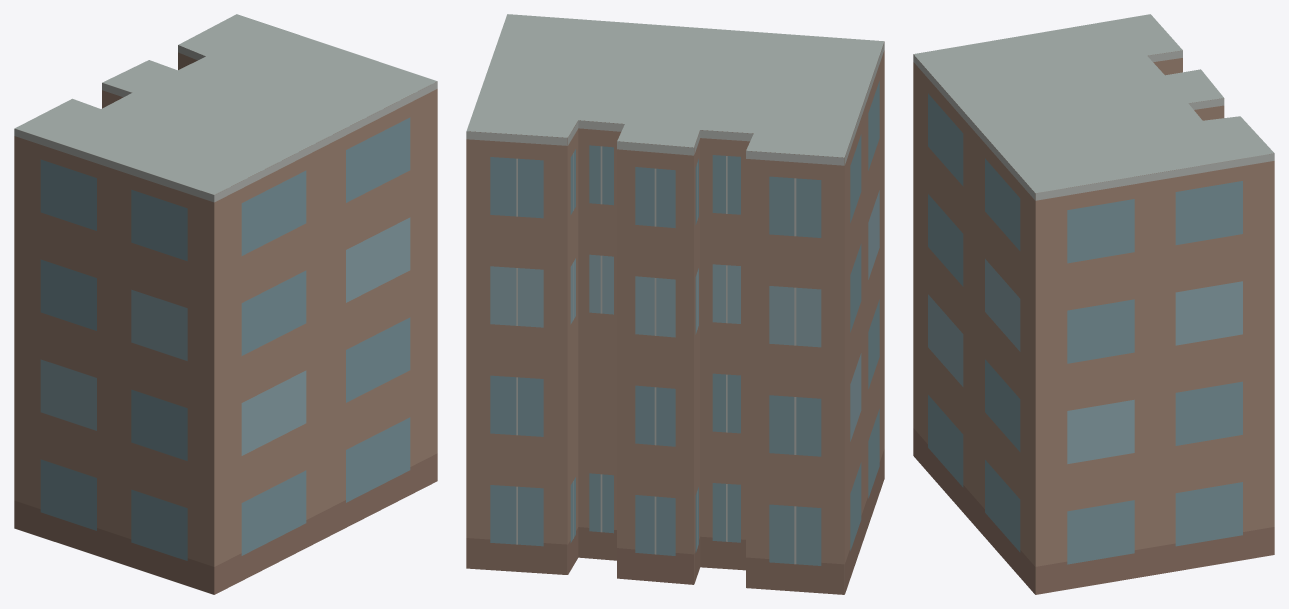
Rendered from survey-upis-32851408.glb.
The picture shows the model from 3 angles, left to right: view 1: azimuth 30°, elevation 25°; view 2: azimuth 150°, elevation 25°; view 3: azimuth 270°, elevation 25°; orthographic projection. The views are drawn at different scales.
Visible parts, largest first — view 1: survey-upis-32851408.tmp; view 2: survey-upis-32851408.tmp; view 3: survey-upis-32851408.tmp.
Boxes of the visible parts, bbox=[...] form: survey-upis-32851408.tmp: bbox=[14, 14, 437, 594]; survey-upis-32851408.tmp: bbox=[466, 14, 884, 594]; survey-upis-32851408.tmp: bbox=[913, 14, 1274, 594].
Size of the model in its own units: 12.55 by 13.1 by 10.69.
